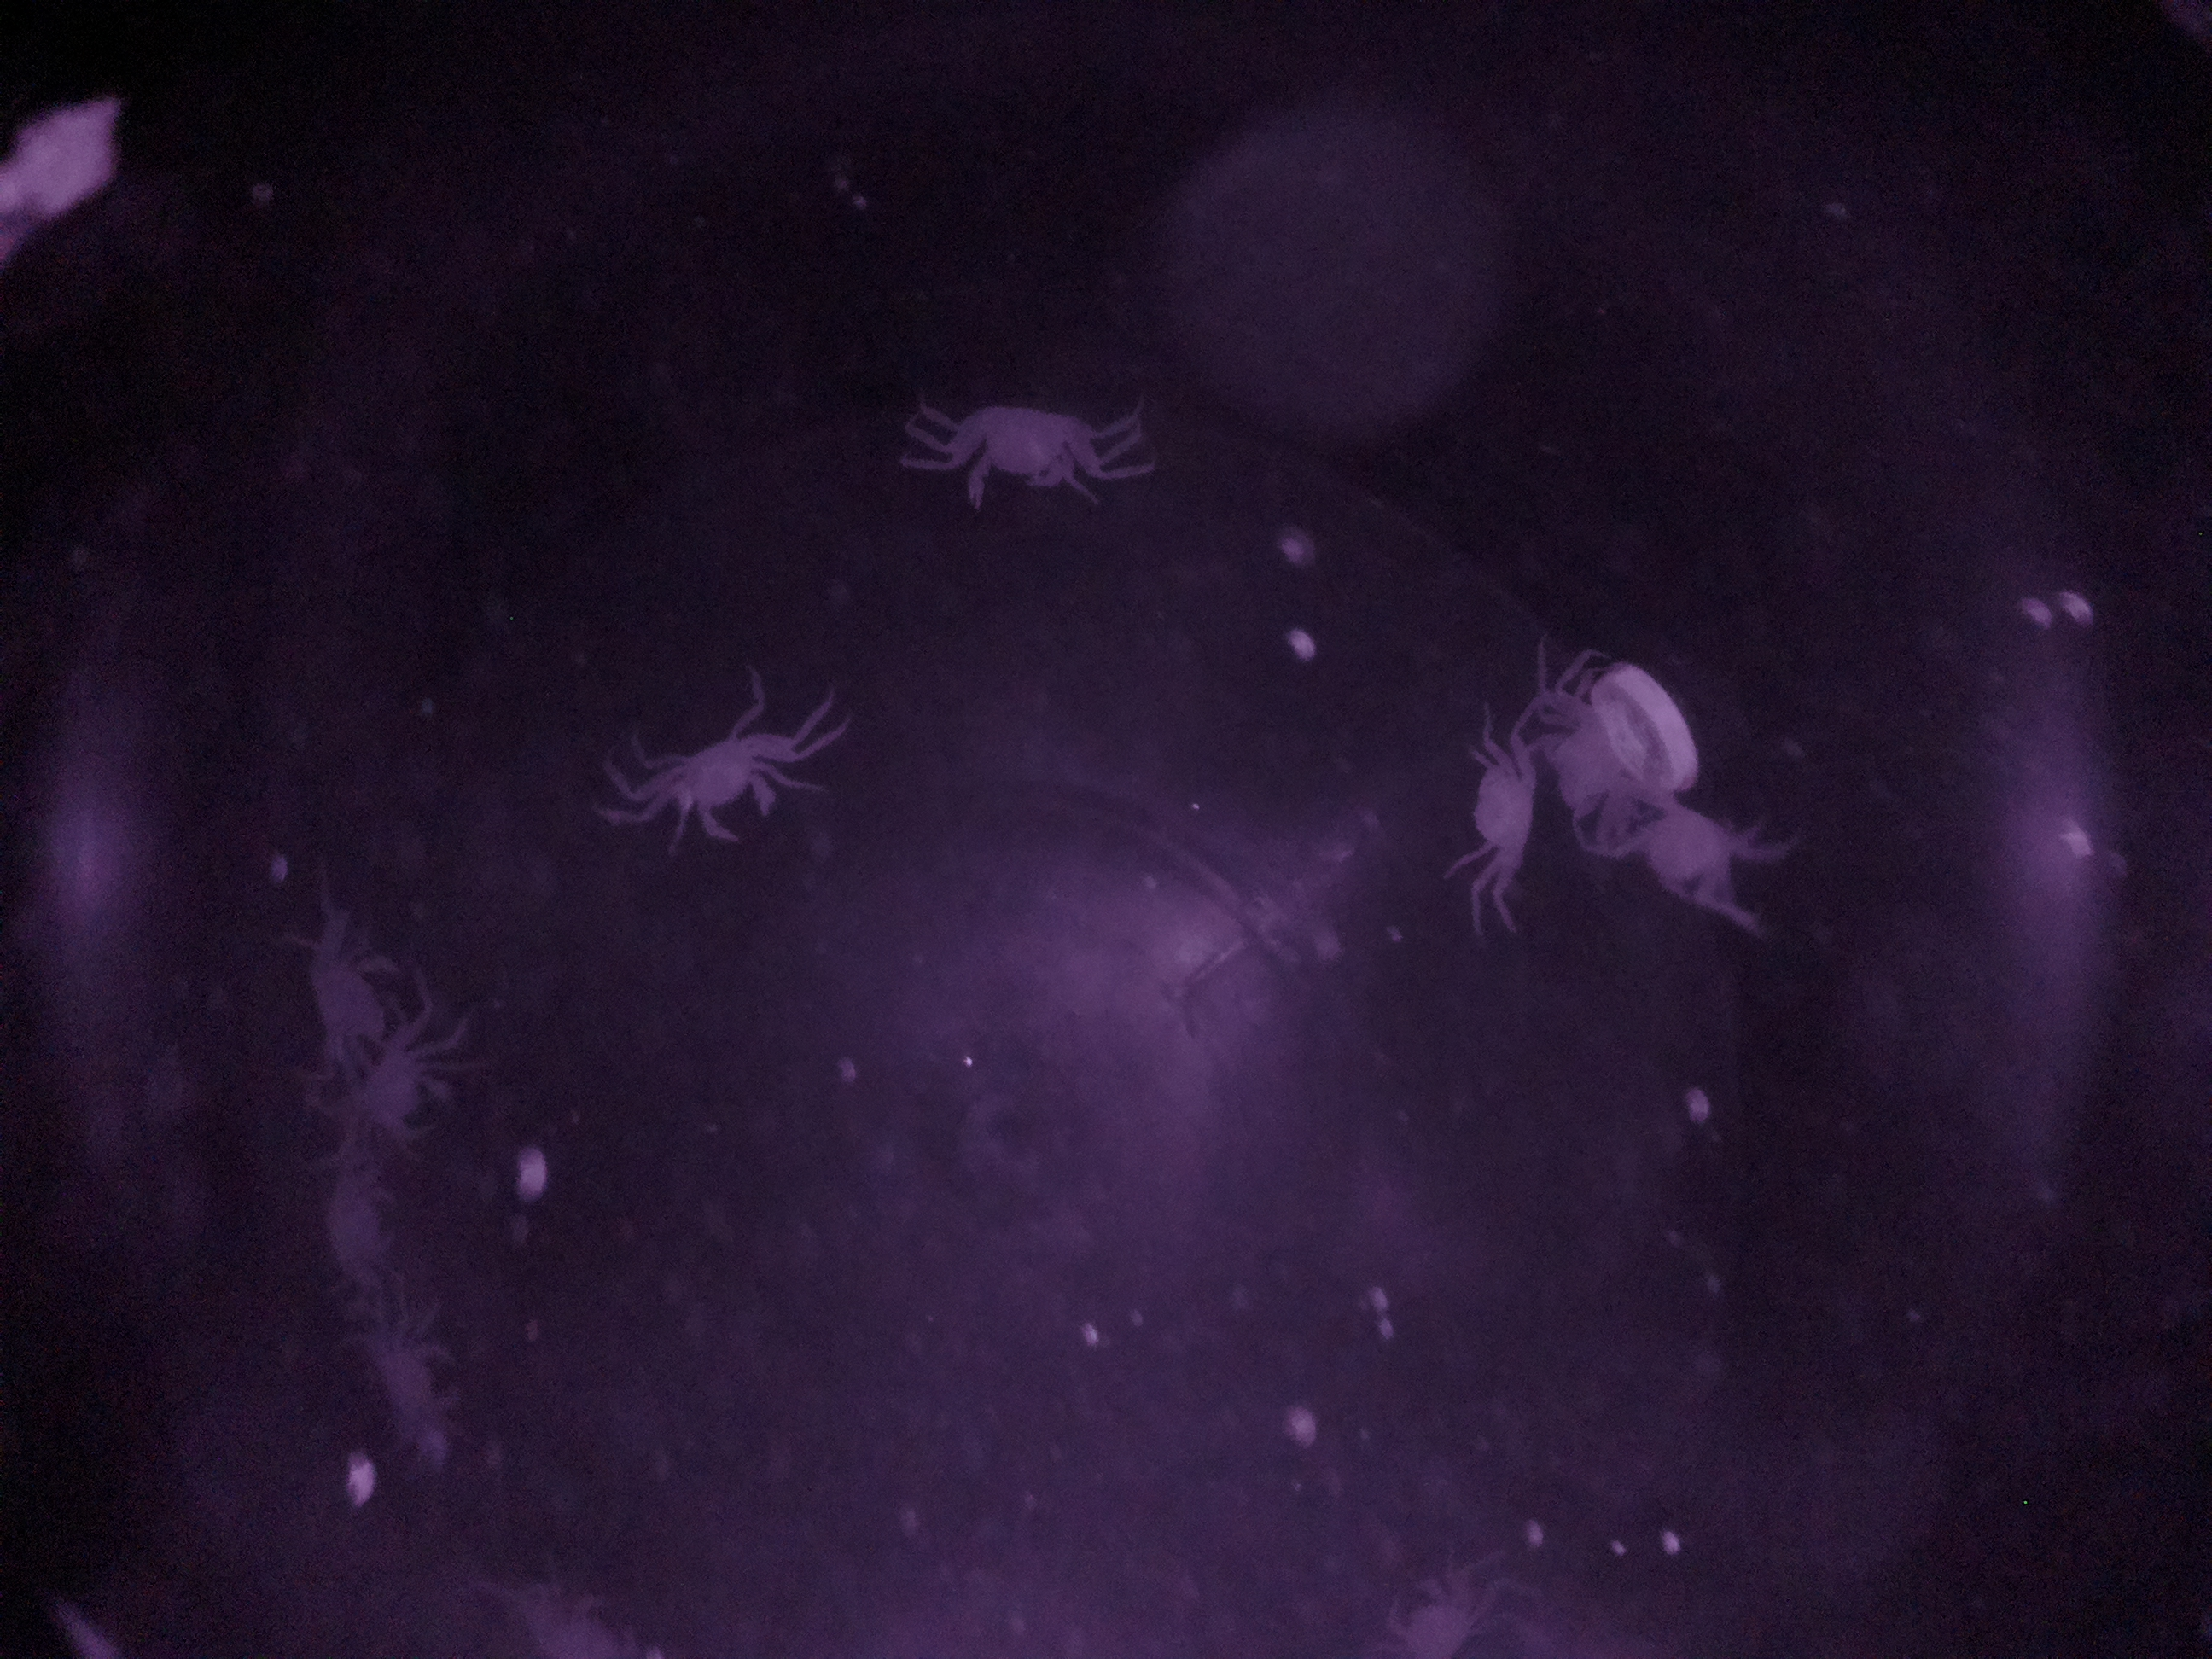Crab: (923, 354, 1130, 526), (617, 697, 831, 859), (1423, 725, 1562, 892)
